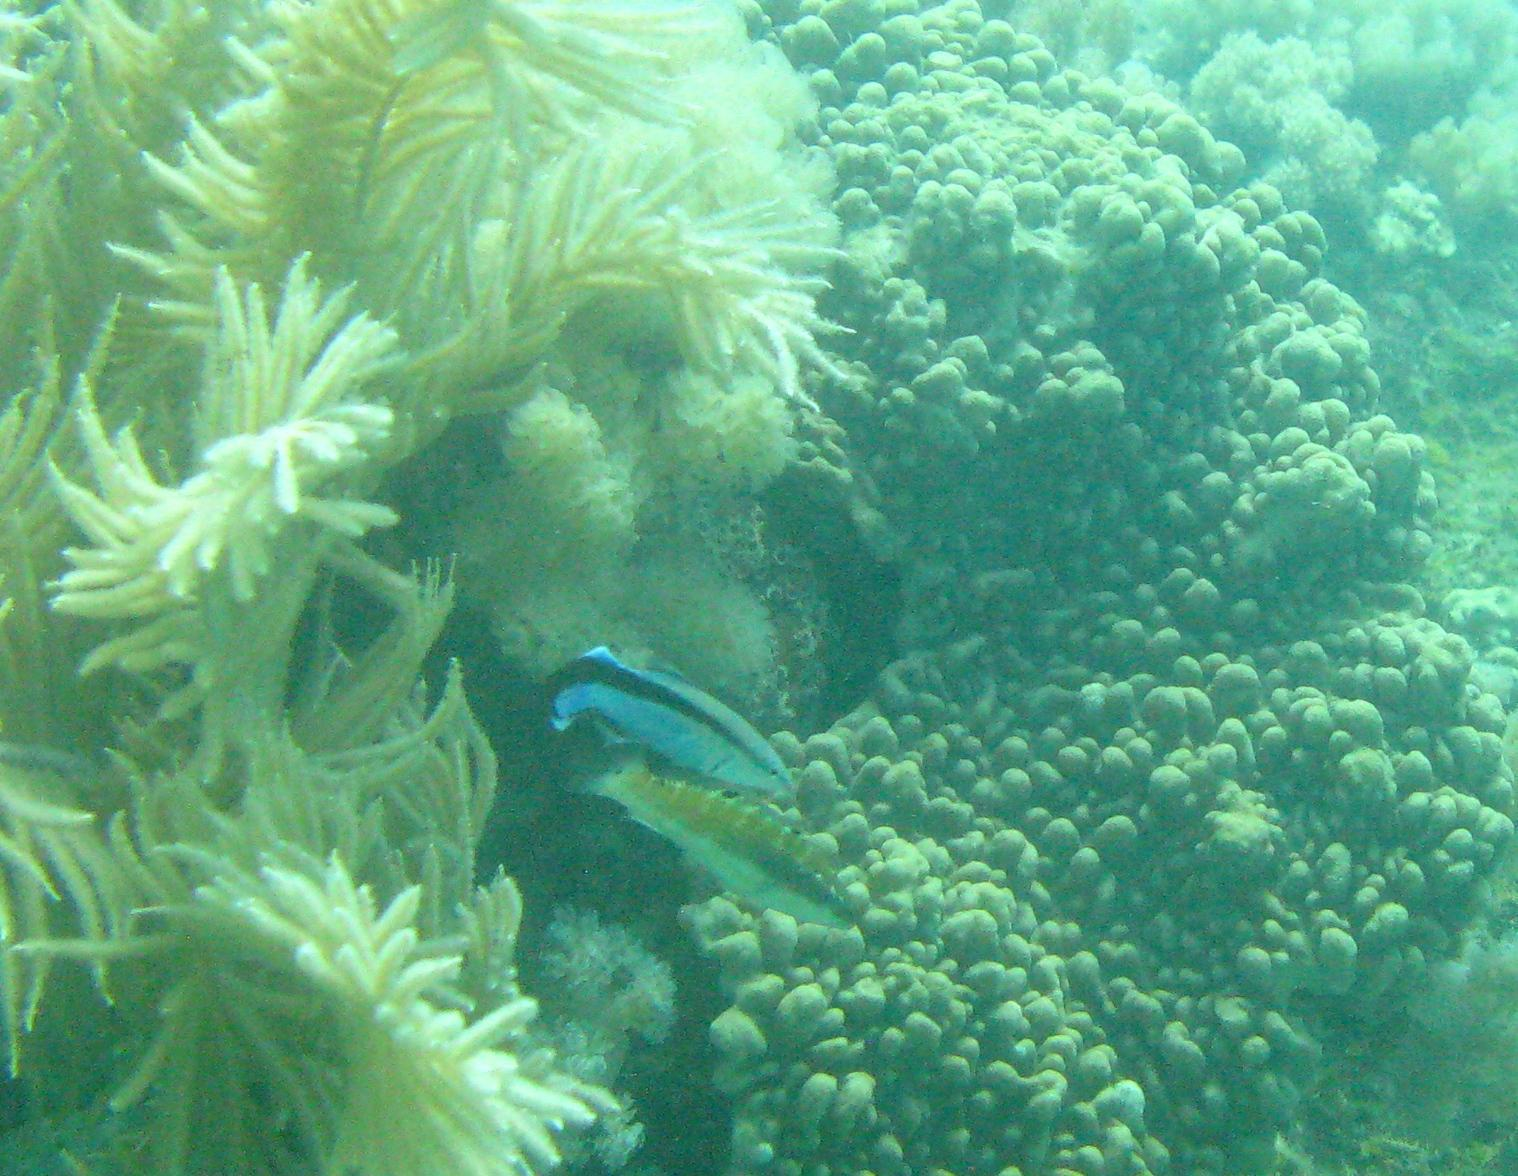Fish: (526, 620, 827, 805)
